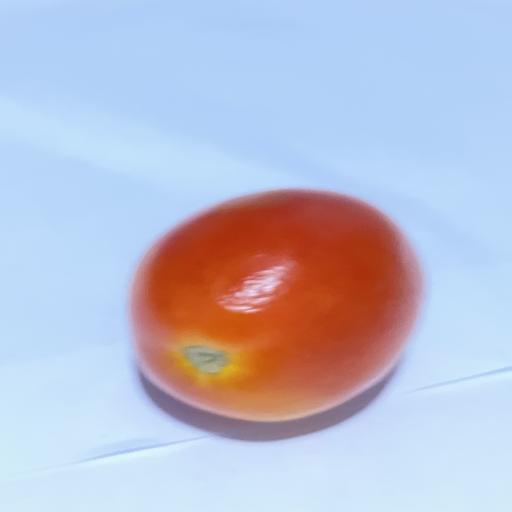overipe: (130, 189, 422, 421)
